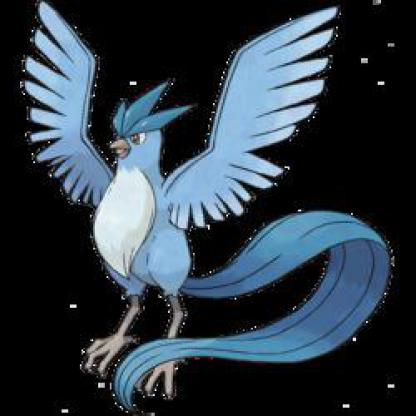Articuno: (1, 45, 416, 416)
